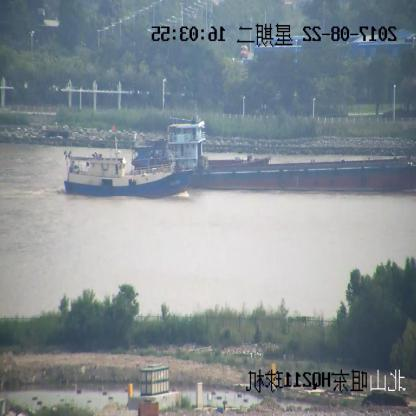Bulk Carrier: (169, 116, 415, 191)
